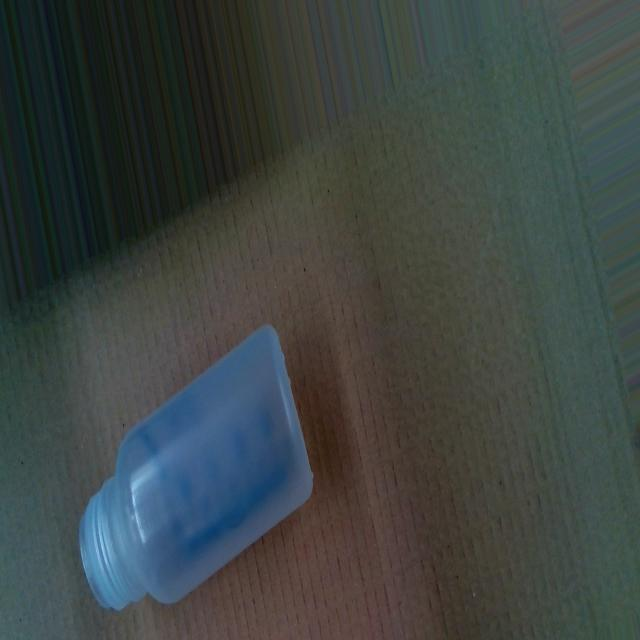bottle: (78, 316, 316, 618)
